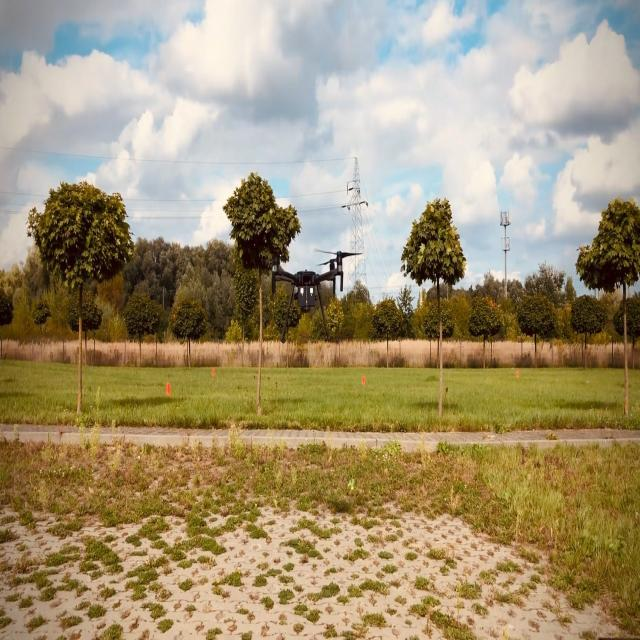drone: (270, 248, 364, 343)
